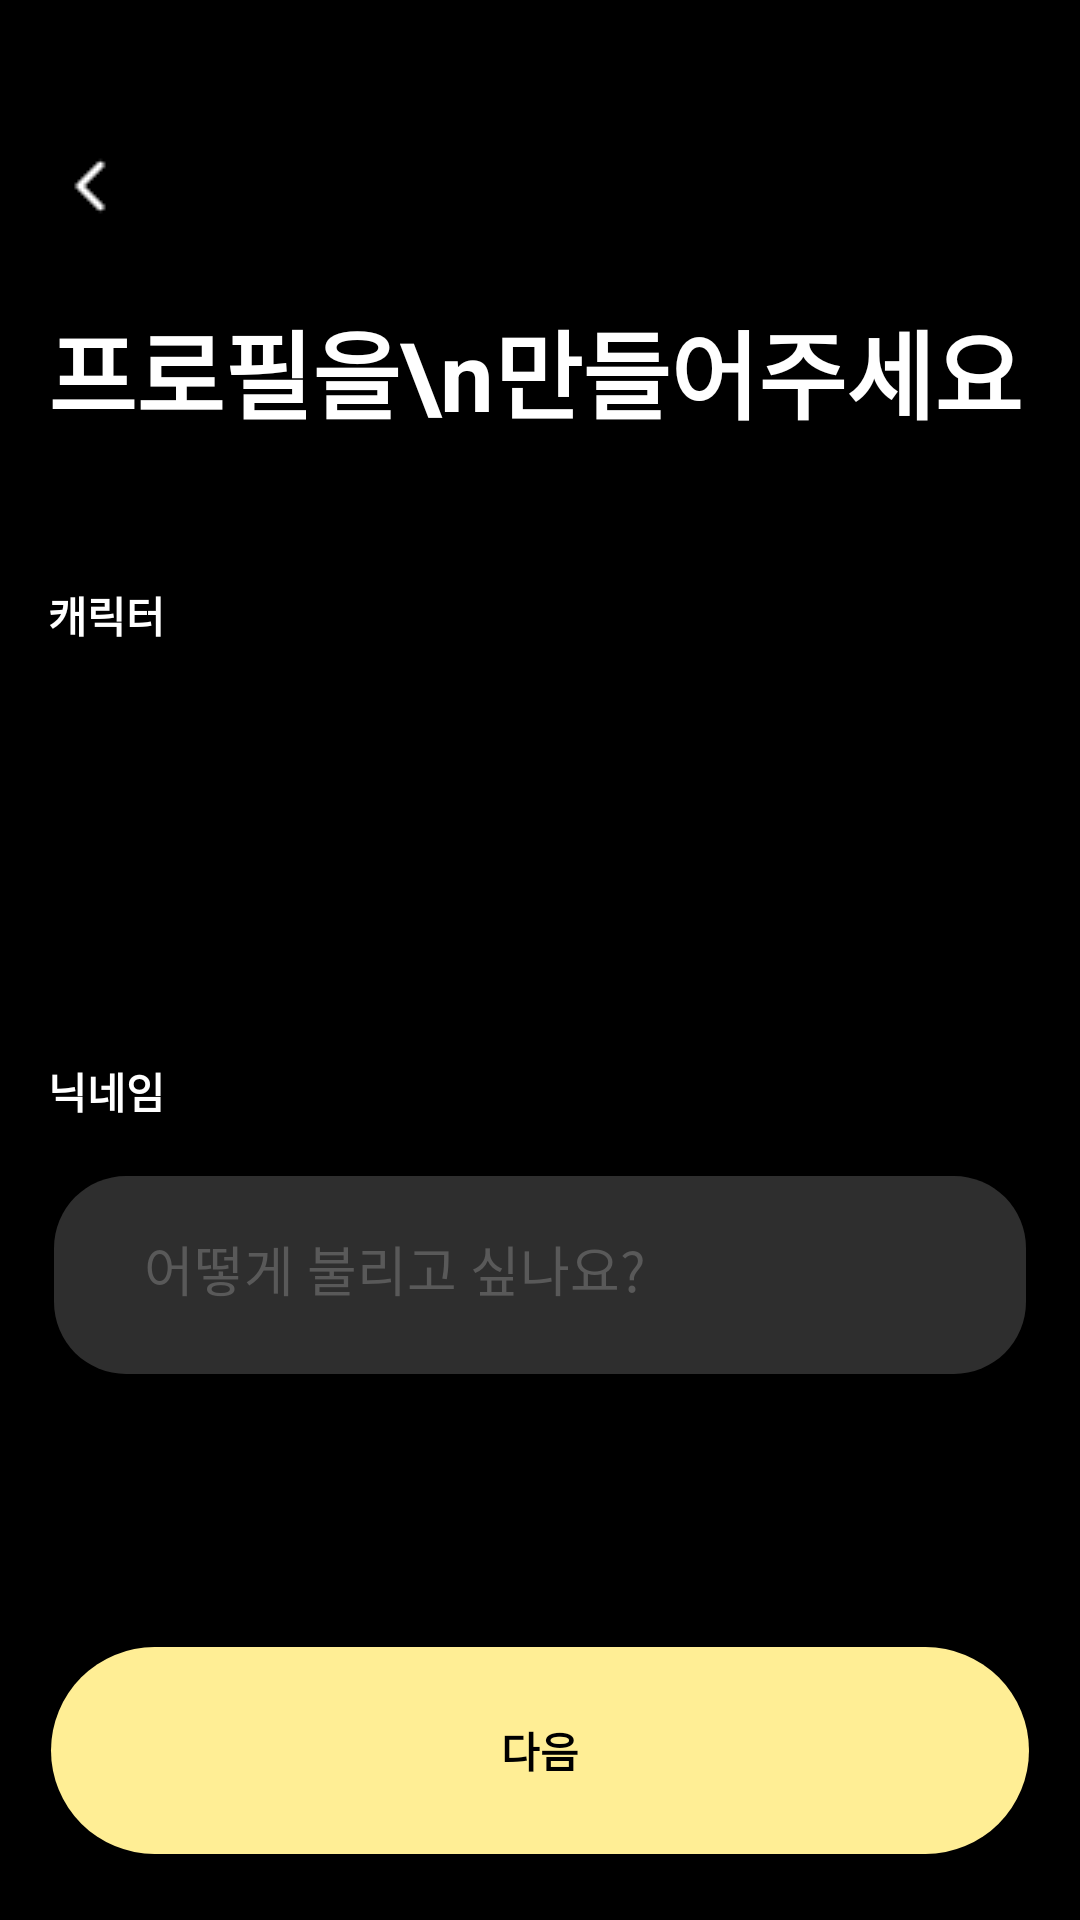

Named icons in this screenshot (1080w x 1920h) and their bounding boxes, bbox=(x1, y1, x2, y2):
backbtn: bbox=(74, 160, 106, 212)
